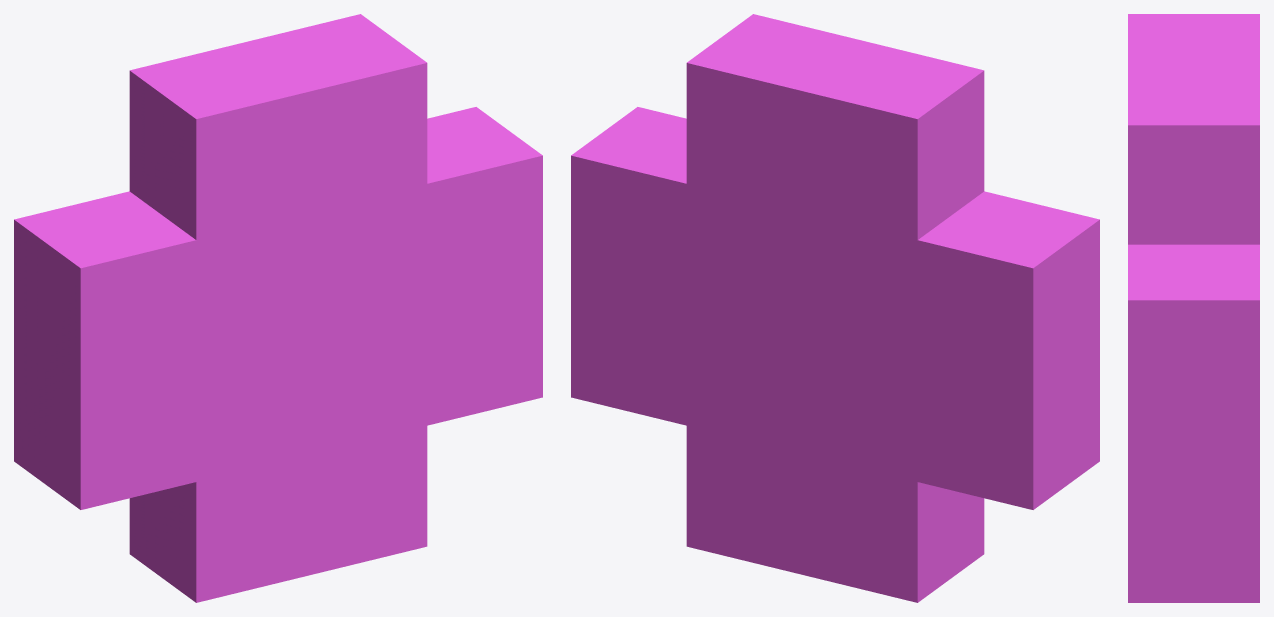
The picture shows the model from 3 angles, left to right: view 1: azimuth 30°, elevation 25°; view 2: azimuth 150°, elevation 25°; view 3: azimuth 270°, elevation 25°; orthographic projection.
Parts seen in each view (by area): view 1: 62.2; view 2: 62.2; view 3: 62.2.
Part boxes in pixels (x1,y1,x2,y2): 62.2: (14, 14, 542, 602); 62.2: (571, 14, 1099, 602); 62.2: (1128, 14, 1259, 602).
Size of the model in its own units: 40 by 40 by 10.
1 material, 1 textured.
